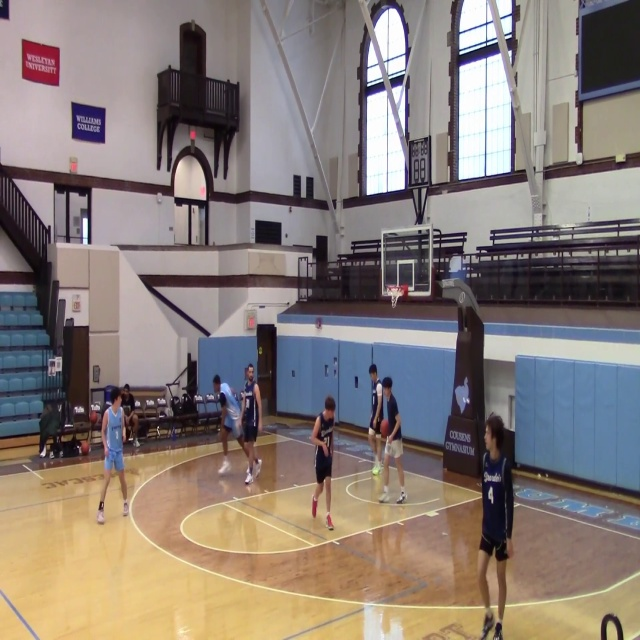Basketball: (380, 420, 390, 437), (80, 441, 90, 455), (89, 411, 99, 423)
